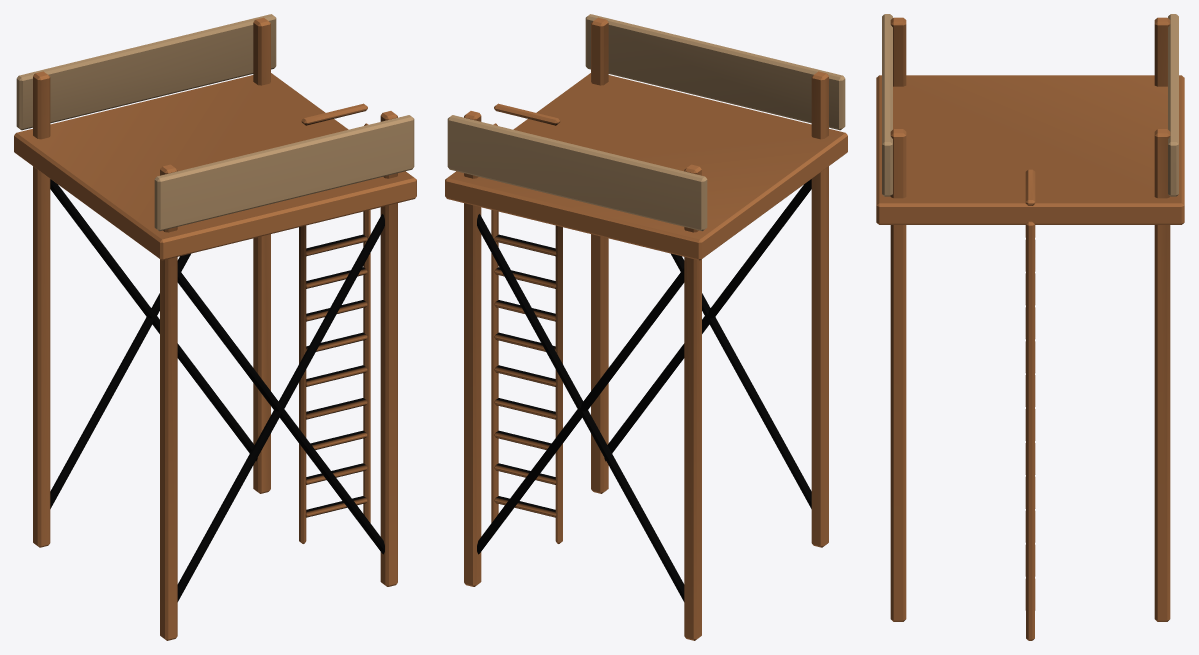
Rendered from kit.guard-tower.glb.
The picture shows the model from 3 angles, left to right: view 1: azimuth 30°, elevation 25°; view 2: azimuth 150°, elevation 25°; view 3: azimuth 270°, elevation 25°; orthographic projection. The views are drawn at different scales.
Visible parts, largest first — view 1: body; view 2: body; view 3: body.
Part boxes in pixels (x1,y1,x2,y2): body: (14, 14, 416, 640); body: (445, 14, 847, 640); body: (876, 14, 1184, 640).
Size of the model in its own units: 3.08 by 4.9 by 2.8.
